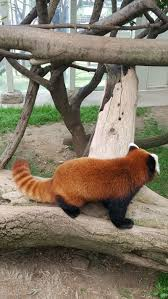redPanda: (11, 140, 159, 225)
